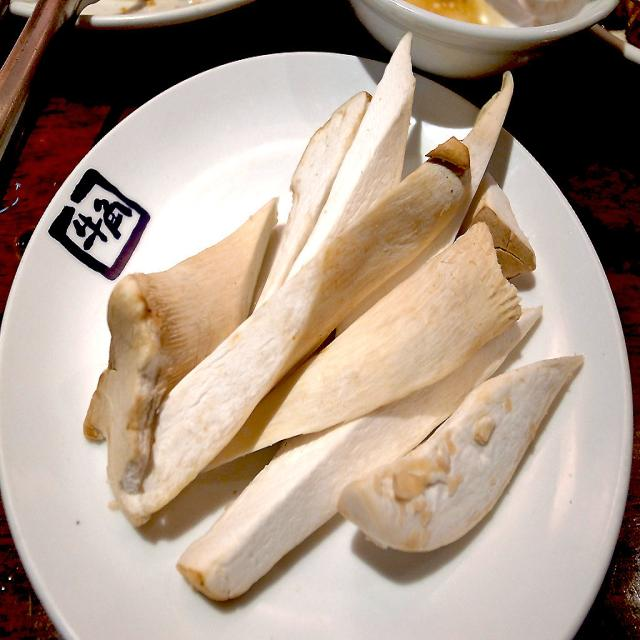Pleurotus eryngii: (100, 162, 471, 499)
